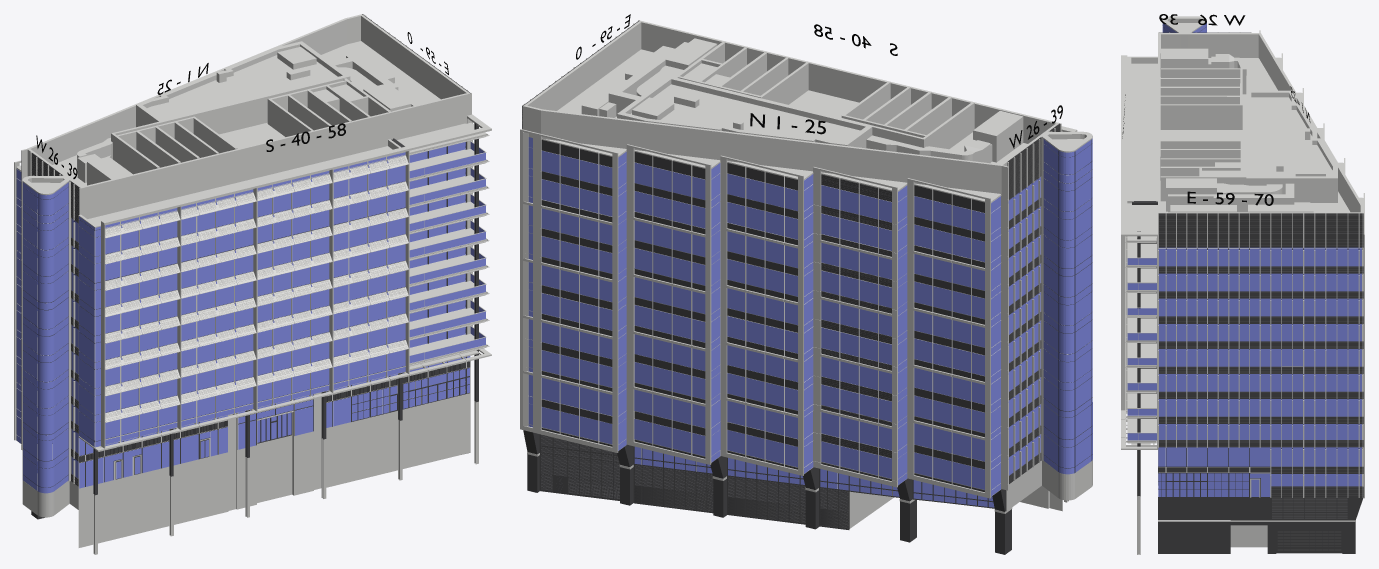
The model's file is 4KingdomStreet.glb.
3 views of the same model, side by side, from view 1: azimuth 30°, elevation 25°; view 2: azimuth 150°, elevation 25°; view 3: azimuth 270°, elevation 25° (orthographic). The views are drawn at different scales.
Visible parts, largest first — view 1: Roof and Frame, Frame2, Drop71, Glass, Drop33, Drop36, Drop40, Drop73, Drop55, Drop47, Drop51, Drop43 (+21 smaller); view 2: Roof and Frame, Frame2, Drop74, Drop33, Drop73, Drop30, Drop2, Drop4, Drop14, Drop8, Drop22, Drop17 (+25 smaller); view 3: Roof and Frame, Frame2, Drop72, Drop69, Drop68, Drop67, Drop66, Drop64, Drop65, Drop63, Drop62, Drop70 (+6 smaller).
Boxes of the visible parts, <box> form: Roof and Frame: <box>14,14,491,554</box>; Frame2: <box>22,14,478,519</box>; Drop71: <box>79,356,470,488</box>; Glass: <box>72,142,480,427</box>; Drop33: <box>23,182,37,437</box>; Drop36: <box>54,182,68,438</box>; Drop40: <box>95,222,119,447</box>; Drop73: <box>16,388,78,493</box>; Drop55: <box>387,152,405,375</box>; Drop47: <box>235,189,253,412</box>; Drop51: <box>311,171,329,394</box>; Drop43: <box>158,208,177,431</box>; Roof and Frame: <box>520,20,1092,528</box>; Frame2: <box>522,20,1092,554</box>; Drop74: <box>528,374,994,507</box>; Drop33: <box>1075,140,1091,415</box>; Drop73: <box>991,402,1092,496</box>; Drop30: <box>1043,139,1057,414</box>; Drop2: <box>541,151,559,374</box>; Drop4: <box>580,160,598,383</box>; Drop14: <box>765,183,783,407</box>; Drop8: <box>653,167,671,391</box>; Drop22: <box>914,196,932,419</box>; Drop17: <box>821,185,839,408</box>; Roof and Frame: <box>1121,16,1364,554</box>; Frame2: <box>1132,27,1363,553</box>; Drop72: <box>1158,447,1270,496</box>; Drop69: <box>1326,247,1347,486</box>; Drop68: <box>1304,247,1325,486</box>; Drop67: <box>1282,247,1303,486</box>; Drop66: <box>1260,247,1281,486</box>; Drop64: <box>1218,247,1238,439</box>; Drop65: <box>1239,247,1259,439</box>; Drop63: <box>1197,247,1217,439</box>; Drop62: <box>1177,247,1196,439</box>; Drop70: <box>1348,247,1361,486</box>.
Bounding box in the file's own units: 67.74 × 57.96 × 35.28.
